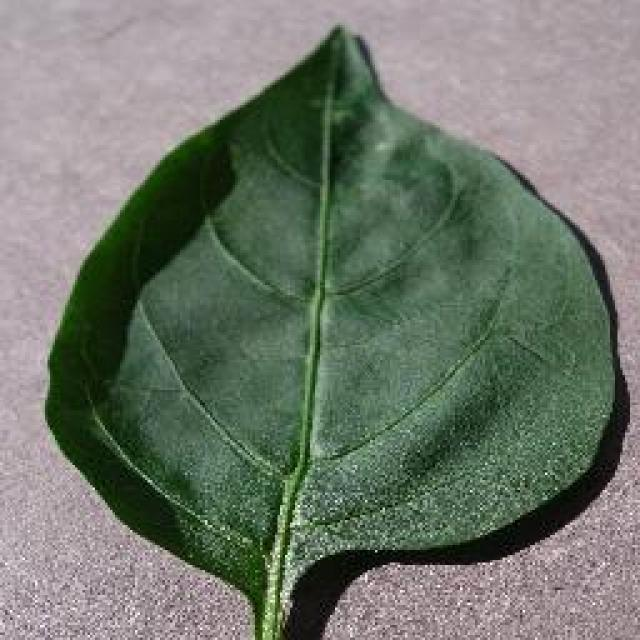Leaf: (53, 2, 625, 620)
